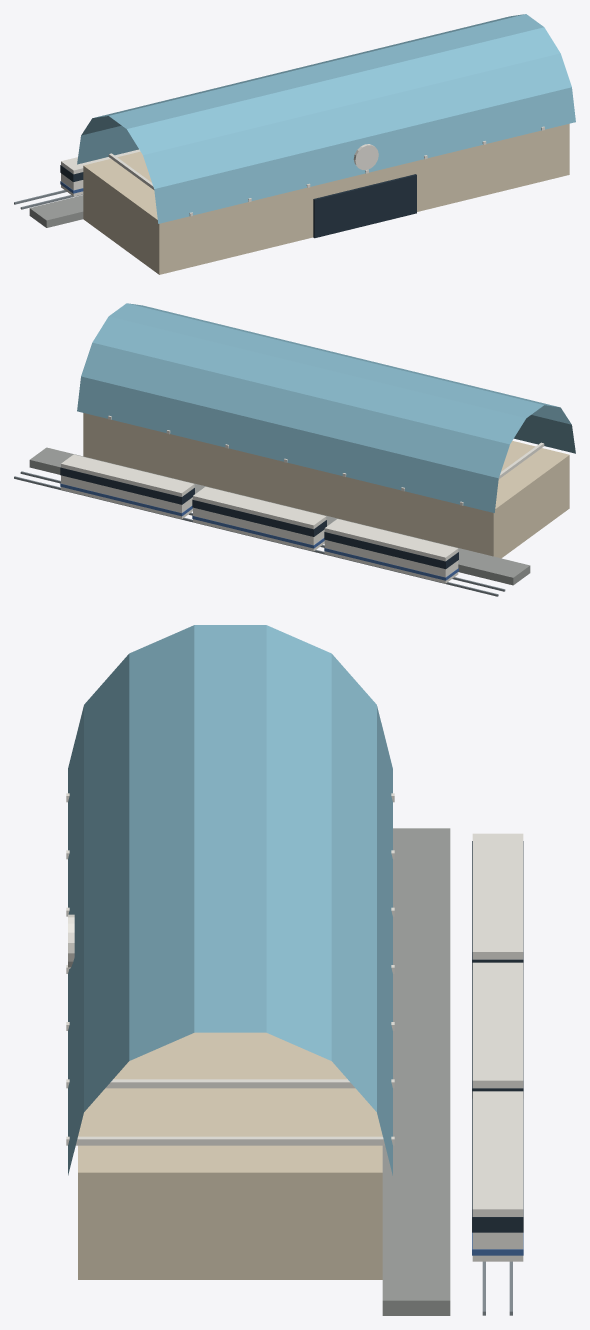
The model's file is station.glb.
3 renders of one model, top to bottom at view 1: azimuth 30°, elevation 25°; view 2: azimuth 150°, elevation 25°; view 3: azimuth 270°, elevation 25°, orthographic. The views are drawn at different scales.
Visible parts, largest first — view 1: Cube.001; view 2: Cube.001; view 3: Cube.001.
Boxes of the visible parts, left/top/right/bottom form: Cube.001: left=14, top=14, right=575, bottom=274; Cube.001: left=14, top=303, right=575, bottom=596; Cube.001: left=66, top=625, right=523, bottom=1315.
Bounding box in the file's own units: 66 × 16.36 × 27.03.
